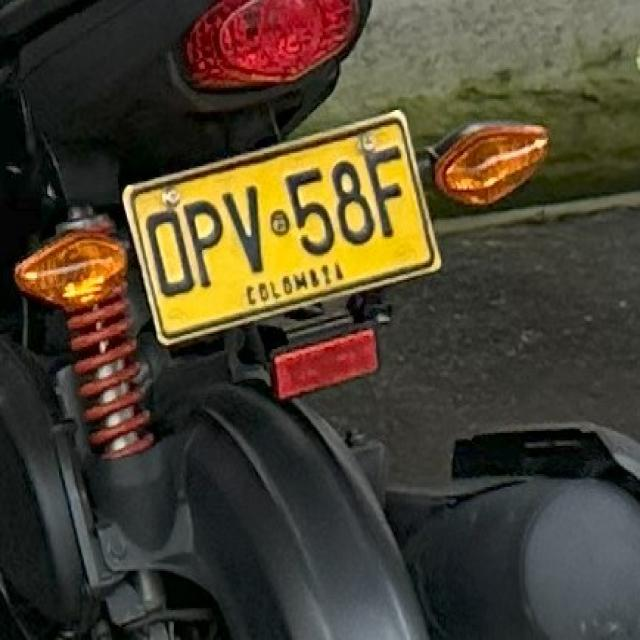number plate: (121, 108, 438, 341)
